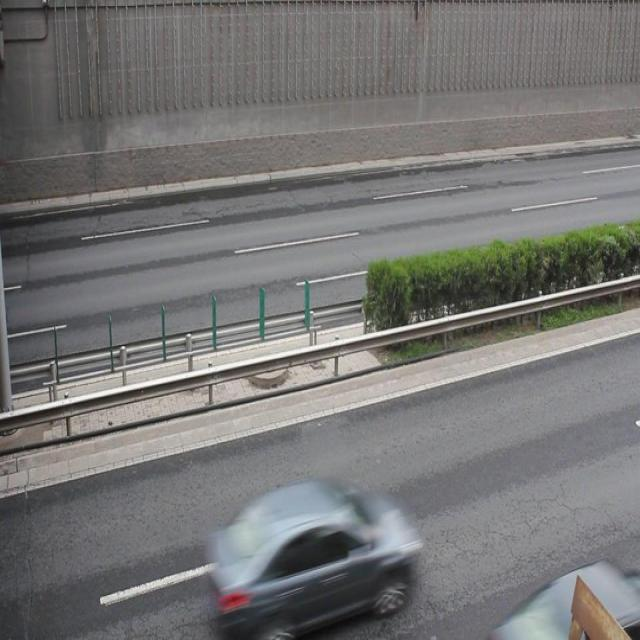car: (204, 477, 412, 640), (500, 567, 640, 640)
